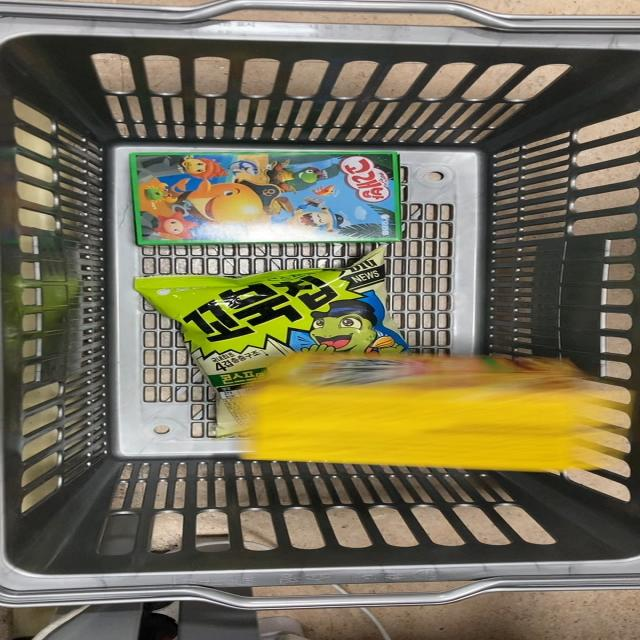ggobukchip: (134, 274, 444, 360)
goraebob: (93, 139, 418, 248)
minicrab: (232, 364, 621, 471)
